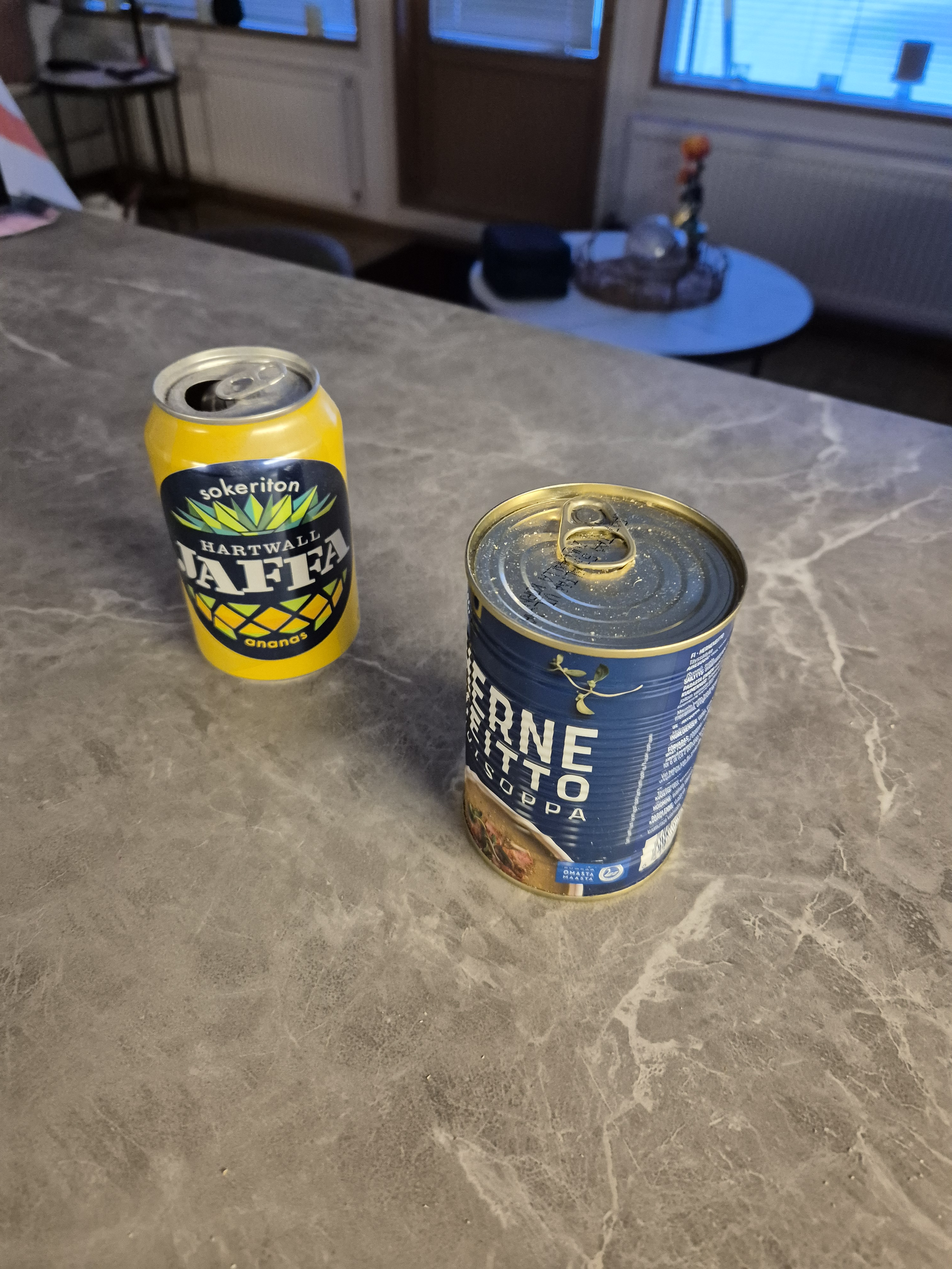Konservburk: (462, 482, 750, 903)
Pantburk: (143, 346, 362, 682)
